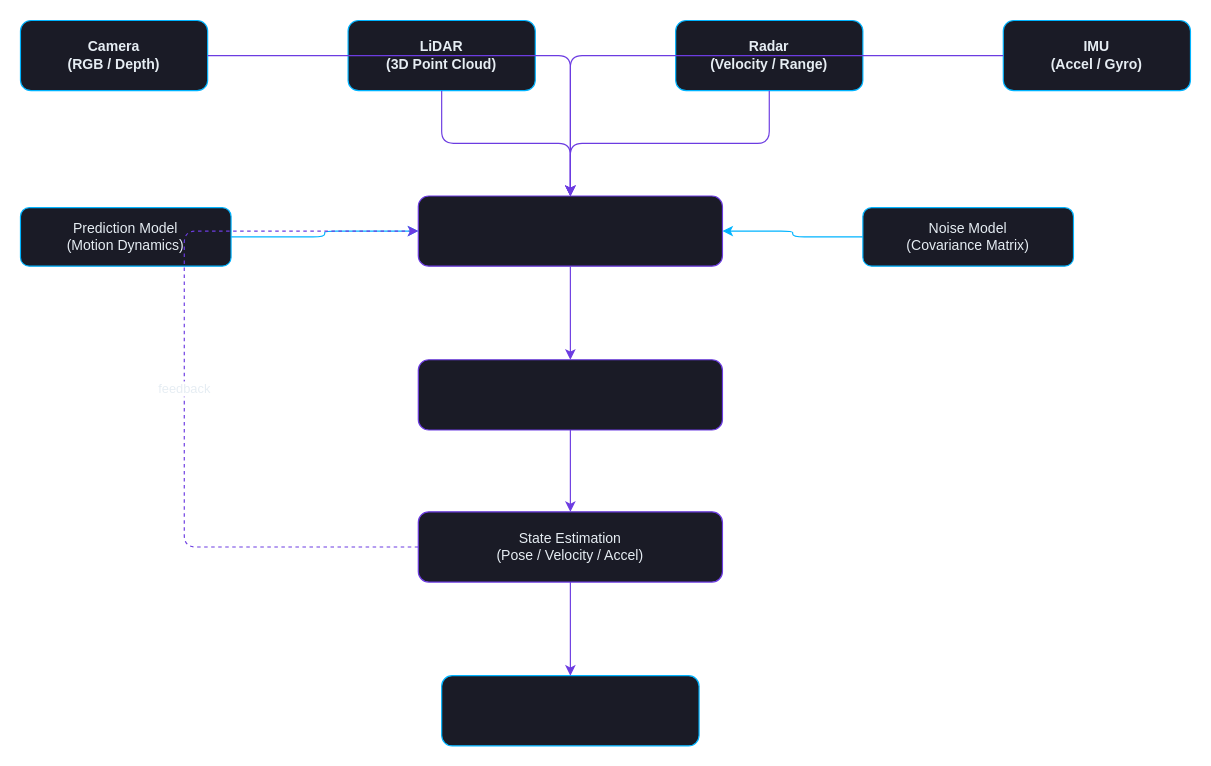
The diagram is 1211 pixels wide and 766 high, and some of its shapes have lost their labels. Each missing label, with the centre of its shape:
Data Association (Hungarian Algorithm): the point at 569,394
Extended Kalman Filter (EKF): the point at 569,230
Fused Output (Unified World Model): the point at 570,710
